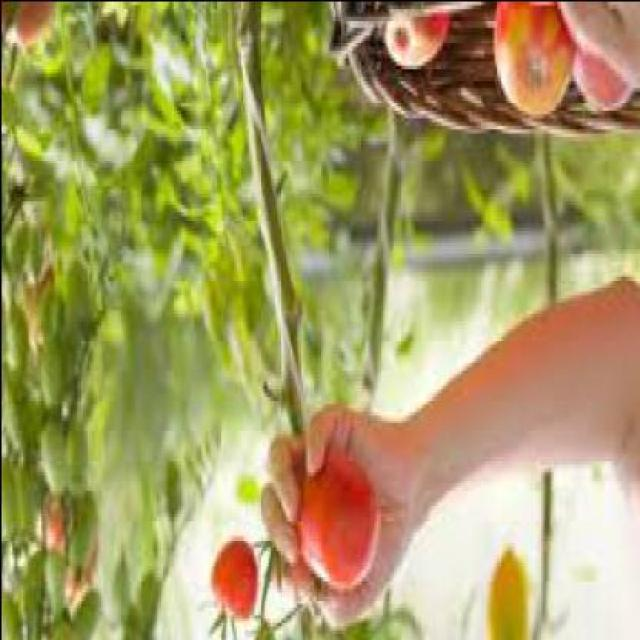BIODEGRADABLE: (295, 455, 377, 591), (490, 3, 573, 117), (58, 497, 93, 614), (379, 15, 444, 76), (483, 552, 529, 638), (208, 542, 254, 622), (569, 57, 631, 112), (9, 3, 56, 49), (32, 498, 65, 553)
